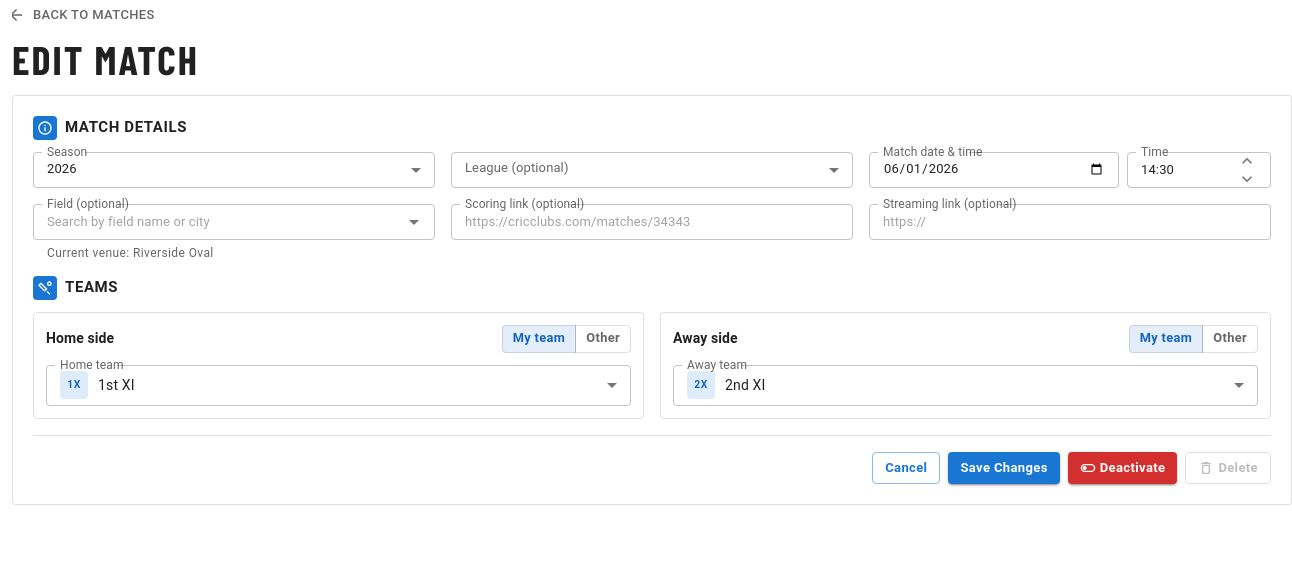
Test: MatchFormPage › Delete (109) › explains why Delete is disabled
The width and height of the screenshot is (1292, 573).
Check: the heading "Edit Match" is shown, box x1=12 y1=35 x2=199 y2=83
Hover over the element showing "Delete" at (1228, 468), box x1=1185 y1=452 x2=1271 y2=484
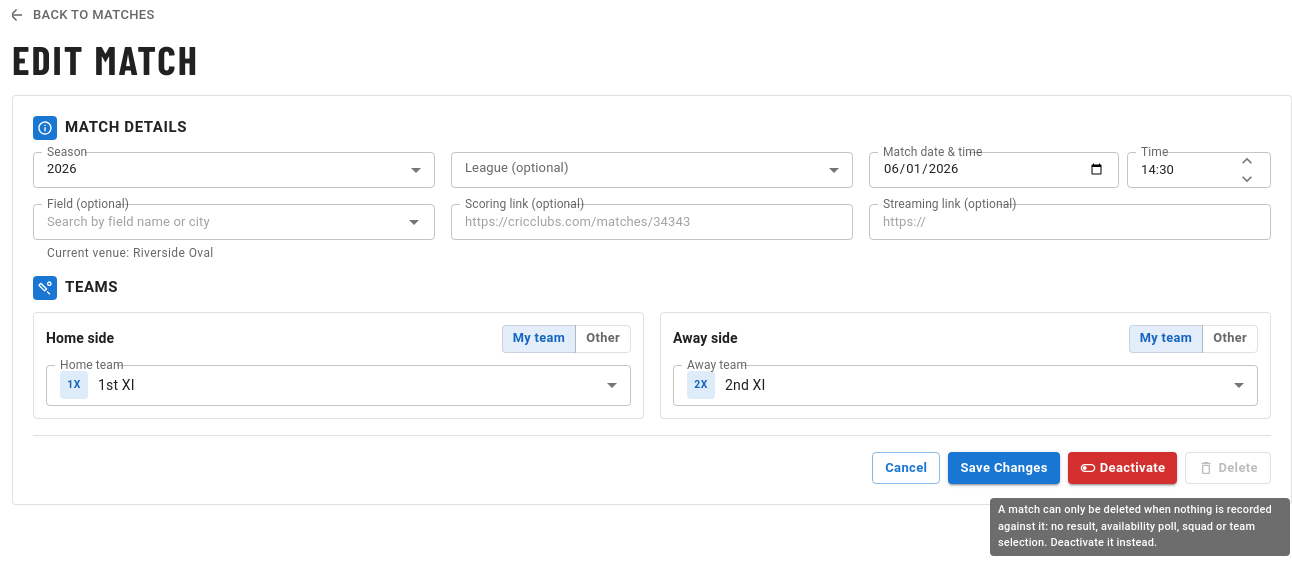
Check: the text "A match can only be deleted when nothing is recorded against it" is shown, box x1=998 y1=503 x2=1272 y2=549
